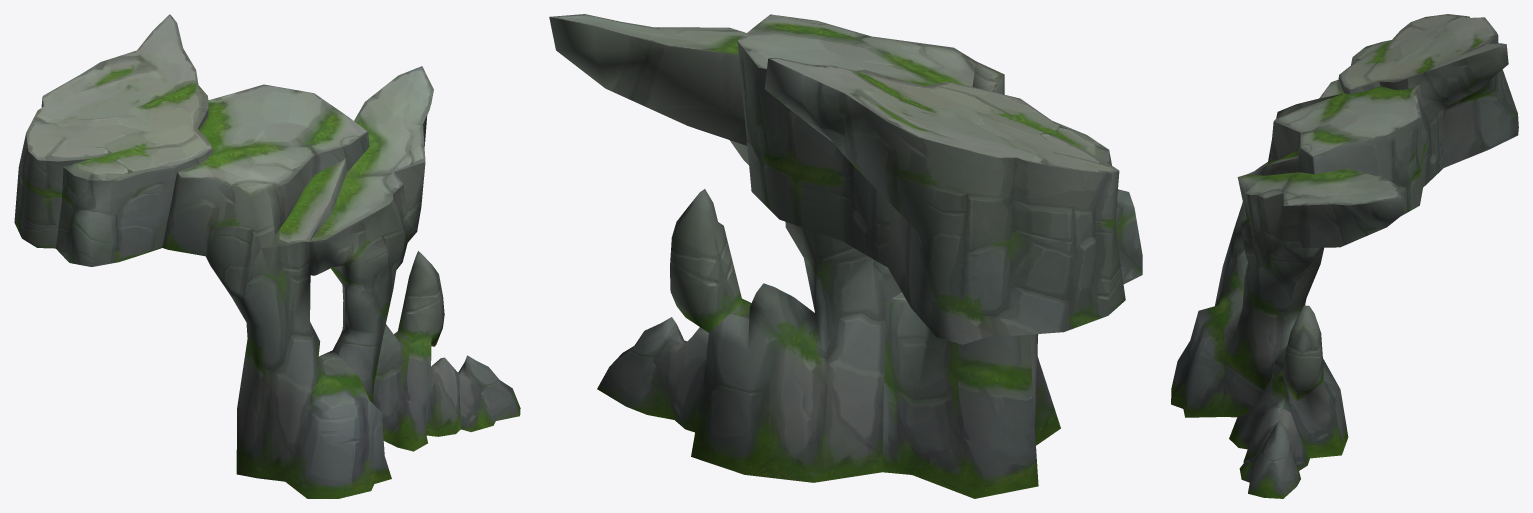
Rendered from scene_malujiakuangdao_shan01.FBX.
The picture shows the model from 3 angles, left to right: view 1: azimuth 30°, elevation 25°; view 2: azimuth 150°, elevation 25°; view 3: azimuth 270°, elevation 25°; orthographic projection. The views are drawn at different scales.
Visible parts, largest first — view 1: scene_malujiakuangdao_shan01; view 2: scene_malujiakuangdao_shan01; view 3: scene_malujiakuangdao_shan01.
Boxes of the visible parts, bbox=[...] form: scene_malujiakuangdao_shan01: bbox=[14, 14, 520, 498]; scene_malujiakuangdao_shan01: bbox=[549, 14, 1142, 498]; scene_malujiakuangdao_shan01: bbox=[1171, 14, 1518, 498].
Bounding box in the file's own units: 2377 × 1963 × 1783.
